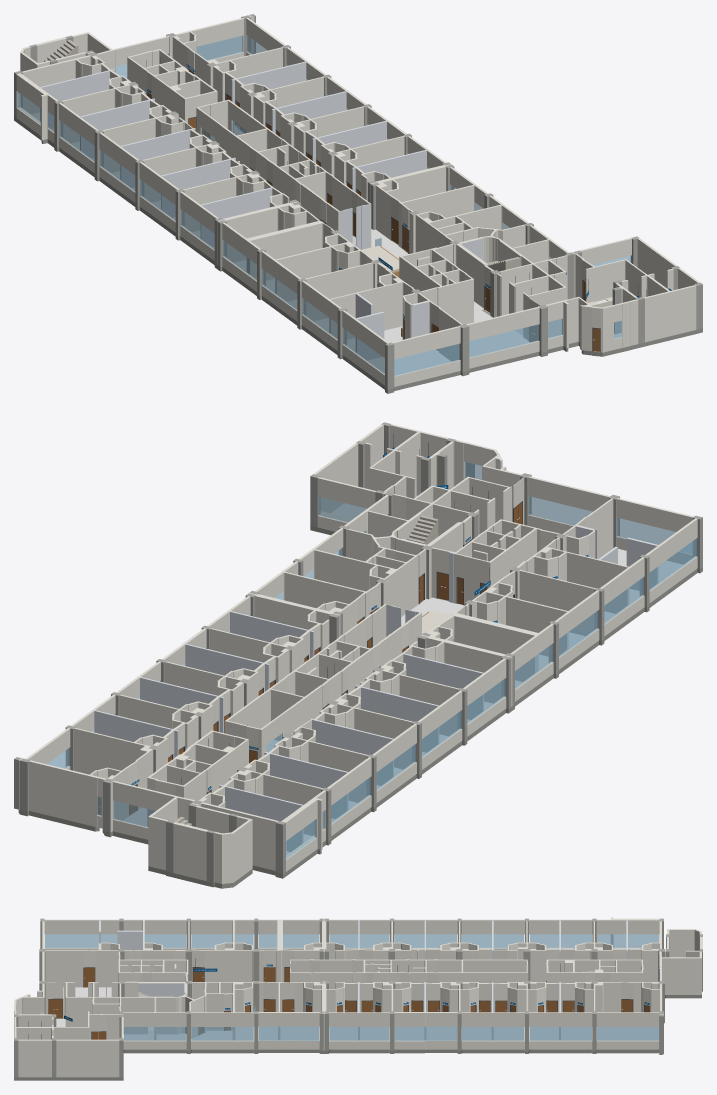
File: solca_p2.glb
3 renders of one model, top to bottom at view 1: azimuth 30°, elevation 25°; view 2: azimuth 150°, elevation 25°; view 3: azimuth 270°, elevation 25°, orthographic. The views are drawn at different scales.
Visible parts, largest first — view 1: muros|0.902,0.884,0.810|0.00, muros|0.810,0.865,0.922|0.00, muros|0.303,0.608,0.846|0.60, muros|0.462,0.462,0.436|0.00, pisos|0.865,0.865,0.865|0.00, pisos|0.384,0.384,0.360|0.00, muros|0.360,0.160,0.053|0.00, escaleras|0.608,0.578,0.518|0.00, muros|0.102,0.109,0.130|0.00, muebles|0.865,0.828,0.740|0.00; view 2: muros|0.902,0.884,0.810|0.00, muros|0.810,0.865,0.922|0.00, muros|0.462,0.462,0.436|0.00, muros|0.303,0.608,0.846|0.60, pisos|0.384,0.384,0.360|0.00, pisos|0.865,0.865,0.865|0.00, muros|0.360,0.160,0.053|0.00, escaleras|0.608,0.578,0.518|0.00; view 3: muros|0.902,0.884,0.810|0.00, muros|0.303,0.608,0.846|0.60, pisos|0.865,0.865,0.865|0.00, muros|0.462,0.462,0.436|0.00, pisos|0.384,0.384,0.360|0.00, muros|0.360,0.160,0.053|0.00, muros|0.810,0.865,0.922|0.00, muros|0.102,0.109,0.130|0.00, letreros|0.002,0.130,0.423|0.00.
Part boxes in pixels (bbox=[...]): muros|0.902,0.884,0.810|0.00: bbox=[16, 15, 699, 386]; muros|0.810,0.865,0.922|0.00: bbox=[40, 61, 487, 360]; muros|0.303,0.608,0.846|0.60: bbox=[17, 35, 631, 375]; muros|0.462,0.462,0.436|0.00: bbox=[14, 14, 702, 389]; pisos|0.865,0.865,0.865|0.00: bbox=[32, 112, 621, 374]; pisos|0.384,0.384,0.360|0.00: bbox=[14, 116, 702, 393]; muros|0.360,0.160,0.053|0.00: bbox=[148, 69, 599, 351]; escaleras|0.608,0.578,0.518|0.00: bbox=[44, 40, 520, 271]; muros|0.102,0.109,0.130|0.00: bbox=[147, 68, 600, 352]; muebles|0.865,0.828,0.740|0.00: bbox=[361, 245, 612, 307]; muros|0.902,0.884,0.810|0.00: bbox=[19, 424, 697, 883]; muros|0.810,0.865,0.922|0.00: bbox=[94, 522, 658, 851]; muros|0.462,0.462,0.436|0.00: bbox=[14, 422, 702, 882]; muros|0.303,0.608,0.846|0.60: bbox=[47, 462, 696, 859]; pisos|0.384,0.384,0.360|0.00: bbox=[18, 525, 702, 888]; pisos|0.865,0.865,0.865|0.00: bbox=[123, 503, 682, 854]; muros|0.360,0.160,0.053|0.00: bbox=[99, 502, 522, 814]; escaleras|0.608,0.578,0.518|0.00: bbox=[174, 515, 438, 826]; muros|0.902,0.884,0.810|0.00: bbox=[14, 917, 702, 1077]; muros|0.303,0.608,0.846|0.60: bbox=[45, 934, 659, 1040]; pisos|0.865,0.865,0.865|0.00: bbox=[56, 987, 658, 1040]; muros|0.462,0.462,0.436|0.00: bbox=[14, 918, 702, 1077]; pisos|0.384,0.384,0.360|0.00: bbox=[14, 987, 702, 1080]; muros|0.360,0.160,0.053|0.00: bbox=[48, 967, 649, 1039]; muros|0.810,0.865,0.922|0.00: bbox=[98, 920, 627, 1039]; muros|0.102,0.109,0.130|0.00: bbox=[48, 967, 659, 1039]; letreros|0.002,0.130,0.423|0.00: bbox=[64, 964, 659, 1021].
Bounding box in the file's own units: 27.74 × 4.2 × 65.42.
